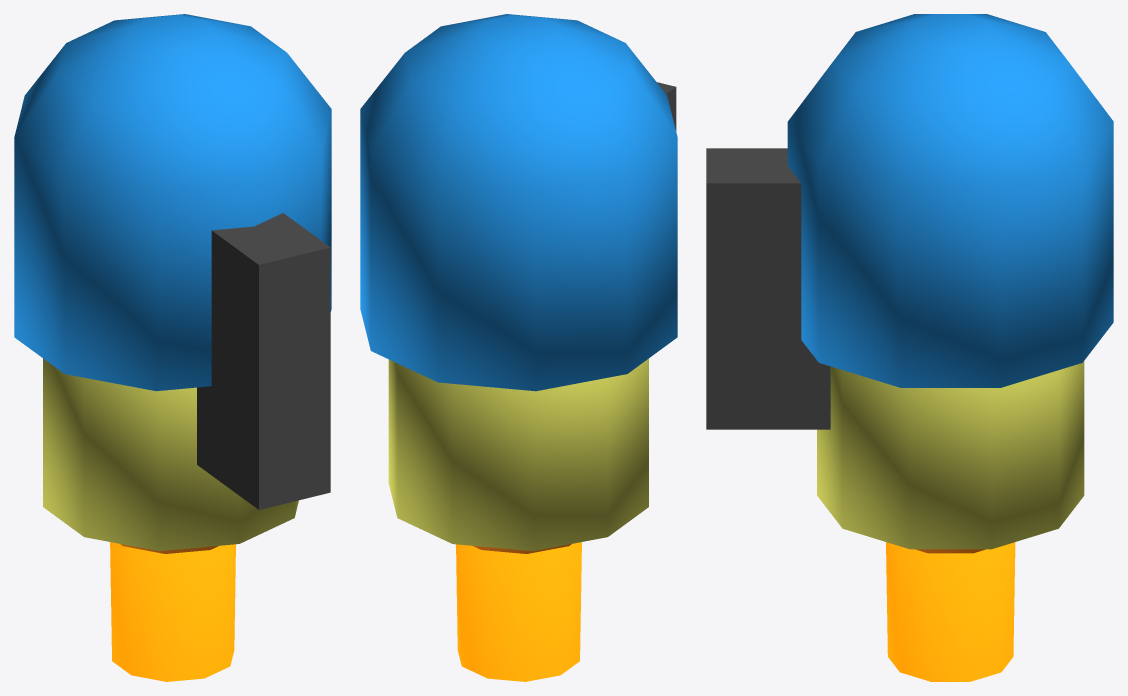
File: directional.glb
3 views of the same model, side by side, from view 1: azimuth 30°, elevation 25°; view 2: azimuth 150°, elevation 25°; view 3: azimuth 270°, elevation 25° (orthographic).
Parts seen in each view (by area): view 1: Cylinder.031, boost-part.012; view 2: Cylinder.031, boost-part.012; view 3: Cylinder.031, boost-part.012.
Boxes of the visible parts, x1,y1,x2,y2 form: Cylinder.031: [14, 14, 331, 553]; boost-part.012: [110, 542, 235, 681]; Cylinder.031: [360, 14, 677, 553]; boost-part.012: [456, 542, 581, 681]; Cylinder.031: [706, 14, 1113, 553]; boost-part.012: [886, 542, 1015, 681].
Bounding box in the file's own units: 0.1072 × 0.2387 × 0.1409.
